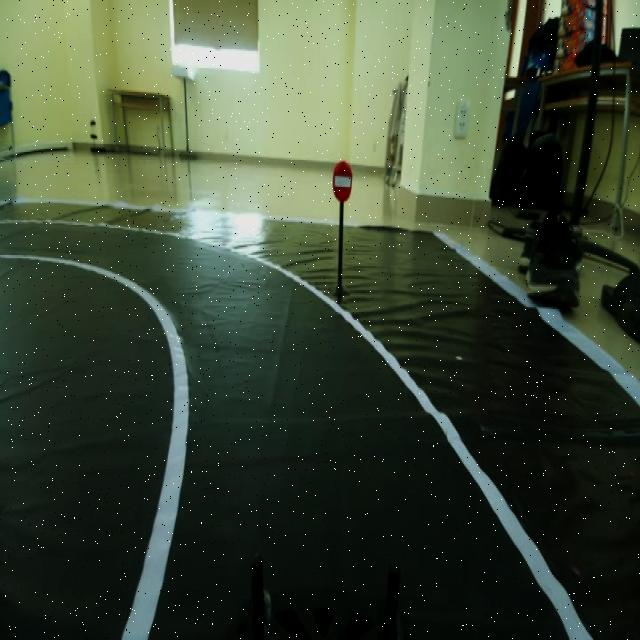no_entry: (327, 155, 358, 206)
